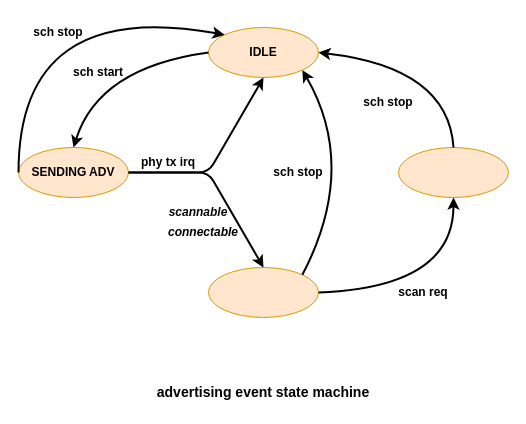
Image size: 526x424. Some labels were removed from this diagram. The centre of each missing label's shape, as x and y in pixels:
RECEIVING: the point at 263,292
SENDING RSP: the point at 453,172
